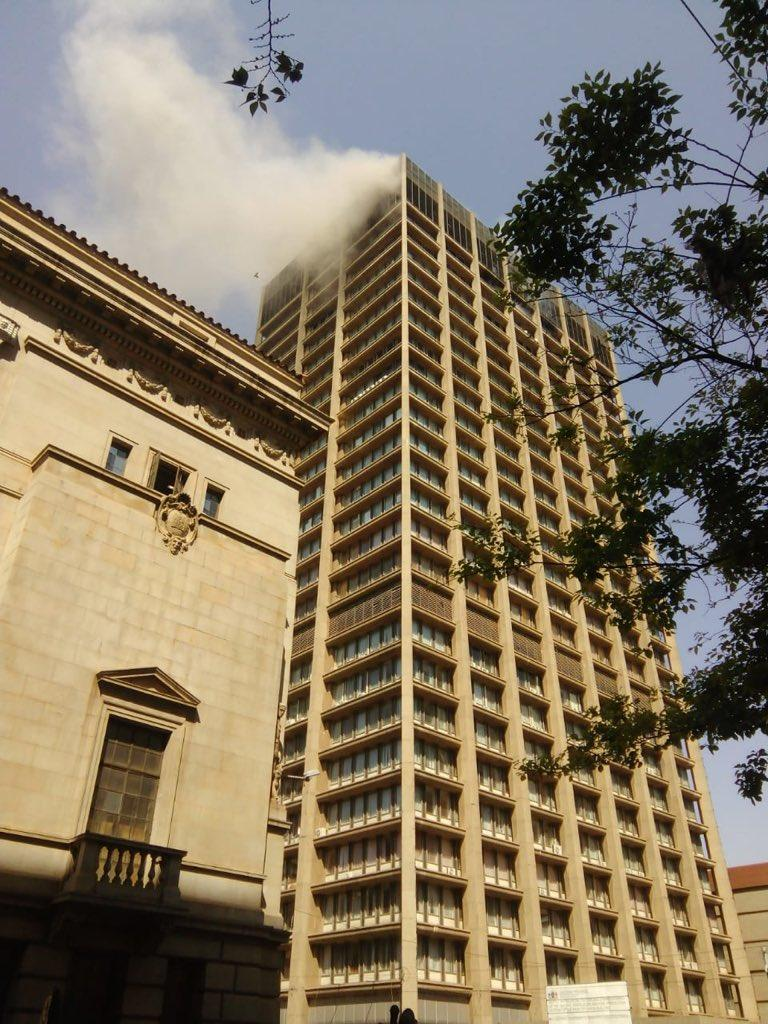smoke: (60, 0, 407, 287)
